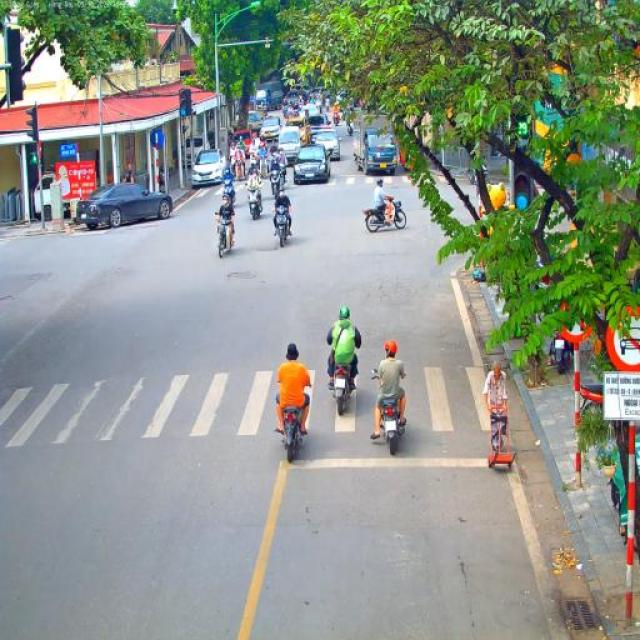car: (77, 182, 173, 229), (292, 143, 332, 185), (192, 149, 227, 186), (312, 128, 342, 162), (278, 126, 302, 165), (258, 117, 282, 151), (183, 136, 204, 172), (303, 114, 328, 144), (286, 116, 308, 146), (233, 129, 256, 157), (247, 110, 263, 135), (304, 102, 320, 120), (287, 90, 303, 106)
motorcycle: (370, 370, 408, 456), (329, 352, 358, 416), (279, 402, 309, 462), (362, 196, 407, 232), (215, 212, 235, 258), (579, 382, 603, 420), (552, 330, 572, 375), (272, 208, 292, 248), (246, 188, 264, 221), (268, 164, 284, 200), (222, 178, 237, 212), (234, 155, 246, 183), (251, 152, 263, 180), (278, 160, 288, 186), (260, 155, 268, 176), (333, 111, 341, 127), (346, 120, 354, 136), (261, 106, 269, 120), (283, 112, 289, 127), (292, 108, 299, 118), (326, 100, 330, 111)
truck: (352, 110, 398, 176), (256, 78, 289, 111)
